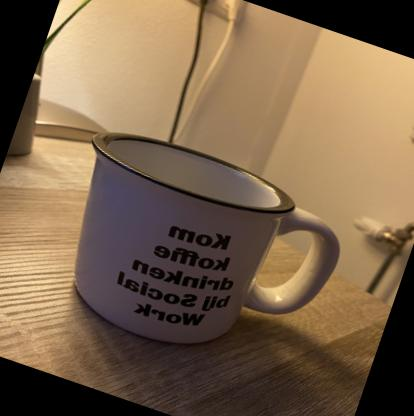Cup: (32, 114, 360, 394)
